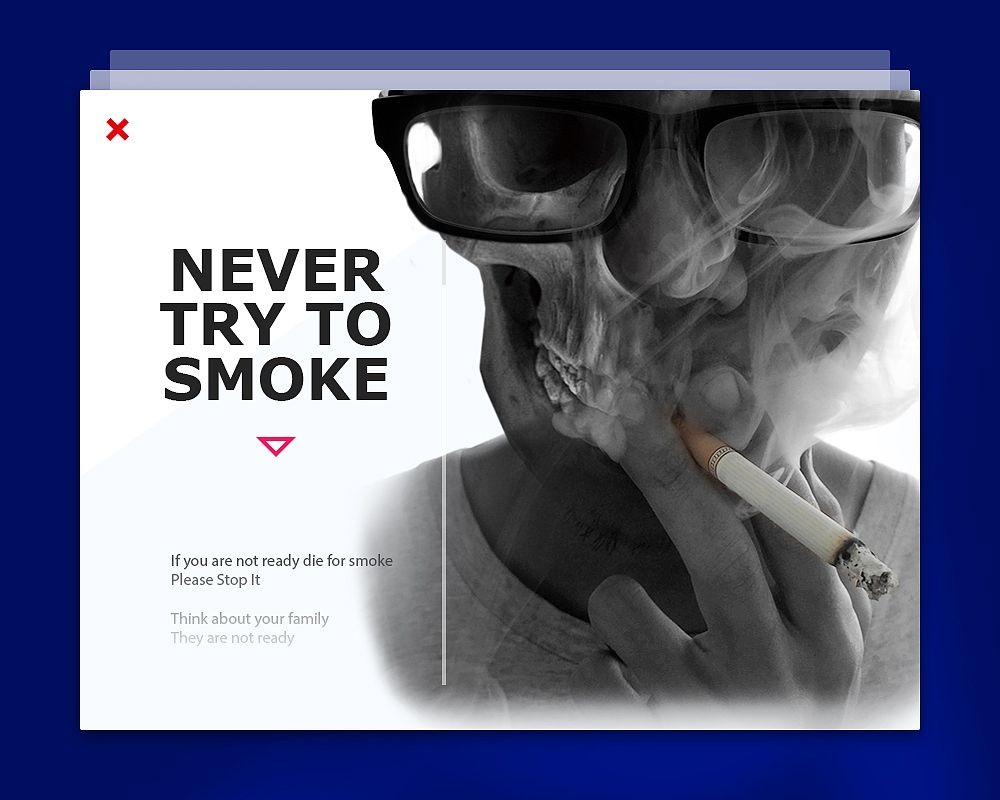yanwu: (745, 221, 915, 470)
